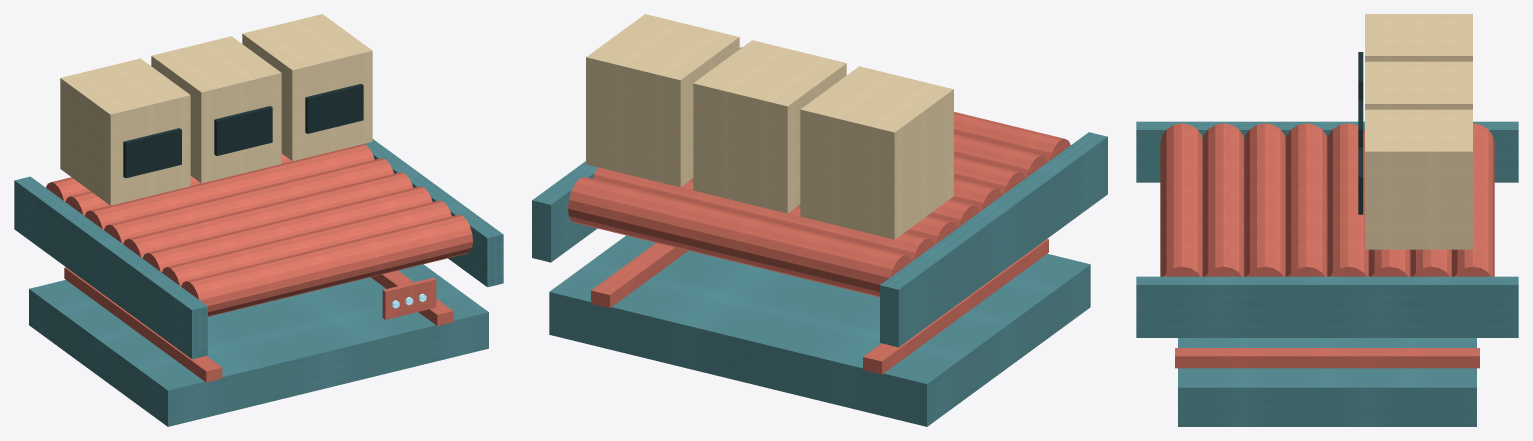
File: atlas100-s074-a02.glb
3 views of the same model, side by side, from view 1: azimuth 30°, elevation 25°; view 2: azimuth 150°, elevation 25°; view 3: azimuth 270°, elevation 25° (orthographic). The views are drawn at different scales.
Parts seen in each view (by area): view 1: atlas100-s074-a02:part-000, atlas100-s074-a02:part-013, atlas100-s074-a02:part-011, atlas100-s074-a02:part-010, atlas100-s074-a02:part-015, atlas100-s074-a02:part-017, atlas100-s074-a02:part-007, atlas100-s074-a02:part-009, atlas100-s074-a02:part-006, atlas100-s074-a02:part-008, atlas100-s074-a02:part-005, atlas100-s074-a02:part-012 (+8 smaller); view 2: atlas100-s074-a02:part-000, atlas100-s074-a02:part-013, atlas100-s074-a02:part-017, atlas100-s074-a02:part-015, atlas100-s074-a02:part-011, atlas100-s074-a02:part-003, atlas100-s074-a02:part-004, atlas100-s074-a02:part-012, atlas100-s074-a02:part-001, atlas100-s074-a02:part-010, atlas100-s074-a02:part-002, atlas100-s074-a02:part-009 (+4 smaller); view 3: atlas100-s074-a02:part-012, atlas100-s074-a02:part-000, atlas100-s074-a02:part-017, atlas100-s074-a02:part-010, atlas100-s074-a02:part-002, atlas100-s074-a02:part-007, atlas100-s074-a02:part-008, atlas100-s074-a02:part-009, atlas100-s074-a02:part-006, atlas100-s074-a02:part-015, atlas100-s074-a02:part-013, atlas100-s074-a02:part-011 (+4 smaller).
Boxes of the visible parts, bbox=[...] form: atlas100-s074-a02:part-000: bbox=[29, 264, 488, 426]; atlas100-s074-a02:part-013: bbox=[60, 58, 190, 205]; atlas100-s074-a02:part-011: bbox=[14, 176, 207, 359]; atlas100-s074-a02:part-010: bbox=[181, 214, 472, 316]; atlas100-s074-a02:part-015: bbox=[151, 36, 281, 183]; atlas100-s074-a02:part-017: bbox=[242, 14, 372, 161]; atlas100-s074-a02:part-007: bbox=[123, 172, 413, 258]; atlas100-s074-a02:part-009: bbox=[162, 200, 451, 286]; atlas100-s074-a02:part-006: bbox=[104, 158, 393, 243]; atlas100-s074-a02:part-008: bbox=[142, 186, 432, 272]; atlas100-s074-a02:part-005: bbox=[84, 144, 374, 229]; atlas100-s074-a02:part-012: bbox=[364, 139, 503, 287]; atlas100-s074-a02:part-000: bbox=[549, 235, 1090, 426]; atlas100-s074-a02:part-013: bbox=[800, 66, 953, 239]; atlas100-s074-a02:part-017: bbox=[586, 14, 739, 187]; atlas100-s074-a02:part-015: bbox=[693, 40, 846, 213]; atlas100-s074-a02:part-011: bbox=[880, 132, 1107, 347]; atlas100-s074-a02:part-003: bbox=[568, 177, 911, 297]; atlas100-s074-a02:part-004: bbox=[593, 167, 934, 261]; atlas100-s074-a02:part-012: bbox=[532, 47, 741, 262]; atlas100-s074-a02:part-001: bbox=[863, 239, 1048, 374]; atlas100-s074-a02:part-010: bbox=[954, 112, 1070, 161]; atlas100-s074-a02:part-002: bbox=[591, 243, 687, 308]; atlas100-s074-a02:part-009: bbox=[954, 134, 1047, 178]; atlas100-s074-a02:part-012: bbox=[1136, 276, 1518, 337]; atlas100-s074-a02:part-000: bbox=[1178, 338, 1476, 426]; atlas100-s074-a02:part-017: bbox=[1365, 109, 1472, 249]; atlas100-s074-a02:part-010: bbox=[1160, 123, 1202, 276]; atlas100-s074-a02:part-002: bbox=[1175, 348, 1479, 368]; atlas100-s074-a02:part-007: bbox=[1286, 123, 1327, 276]; atlas100-s074-a02:part-008: bbox=[1244, 123, 1285, 276]; atlas100-s074-a02:part-009: bbox=[1203, 123, 1244, 276]; atlas100-s074-a02:part-006: bbox=[1327, 123, 1368, 276]; atlas100-s074-a02:part-015: bbox=[1365, 61, 1472, 109]; atlas100-s074-a02:part-013: bbox=[1365, 14, 1472, 61]; atlas100-s074-a02:part-011: bbox=[1136, 121, 1518, 182].
Size of the model in its own units: 2.4 by 1.73 by 2.3.
Materials: 5 (5 with a texture image).
